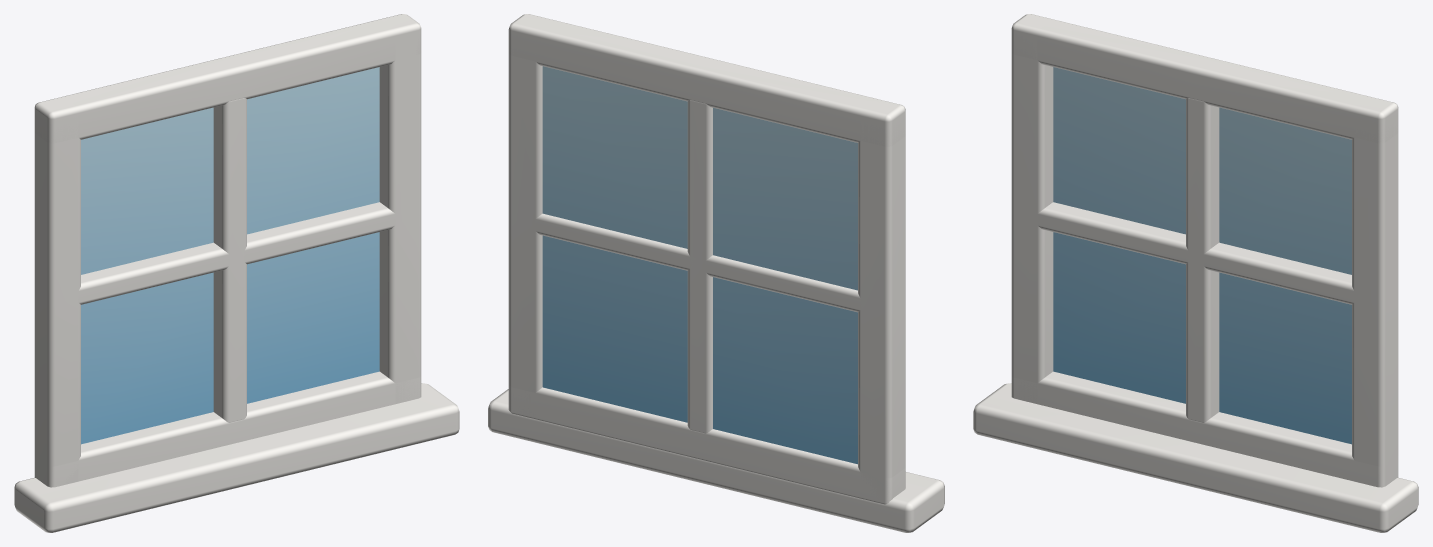
The model's file is furn_window_wall.glb.
3 views of the same model, side by side, from view 1: azimuth 30°, elevation 25°; view 2: azimuth 150°, elevation 25°; view 3: azimuth 330°, elevation 25° (orthographic). The views are drawn at different scales.
Visible parts, largest first — view 1: furn_window_wall_main, furn_window_wall_gloss; view 2: furn_window_wall_gloss, furn_window_wall_main; view 3: furn_window_wall_main, furn_window_wall_gloss.
Boxes of the visible parts, bbox=[...] form: furn_window_wall_main: bbox=[14, 14, 459, 532]; furn_window_wall_gloss: bbox=[81, 67, 379, 444]; furn_window_wall_gloss: bbox=[542, 66, 857, 464]; furn_window_wall_main: bbox=[488, 14, 944, 532]; furn_window_wall_main: bbox=[973, 14, 1418, 532]; furn_window_wall_gloss: bbox=[1053, 67, 1351, 444].
Bounding box in the file's own units: 1 × 0.93 × 0.15.
